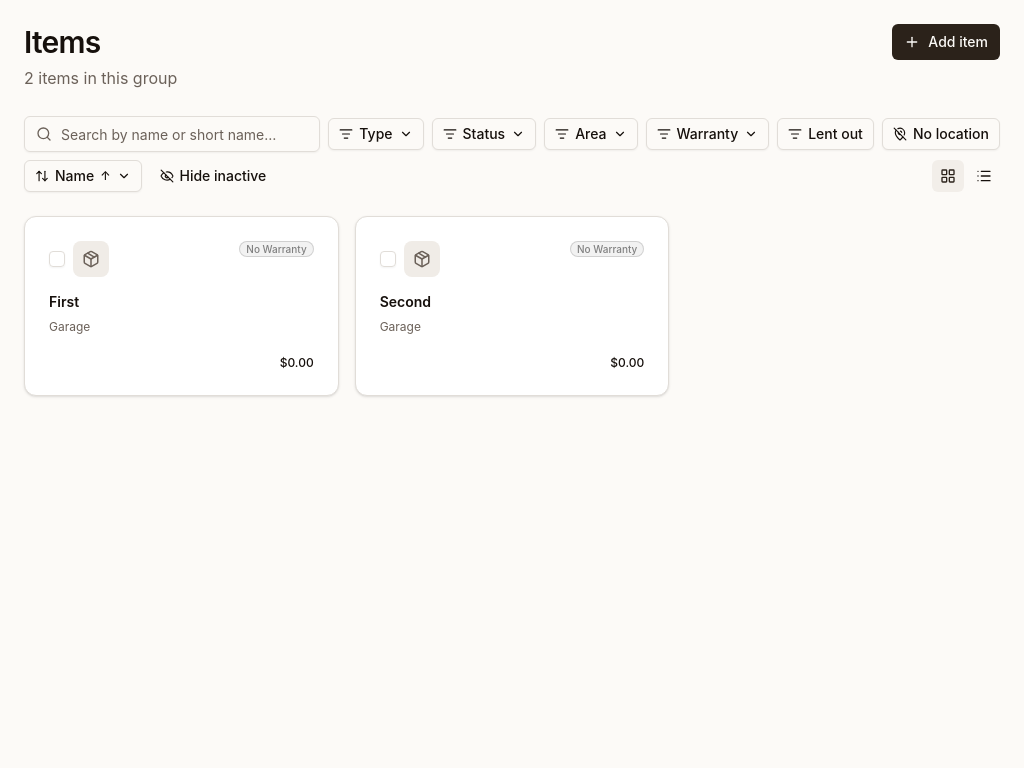
Test: <CommoditiesListPage /> › opens the bulk action bar when at least one row is selected
Click the checkbox with test id "commodity-select" at (57, 259), box [49,251,65,267]
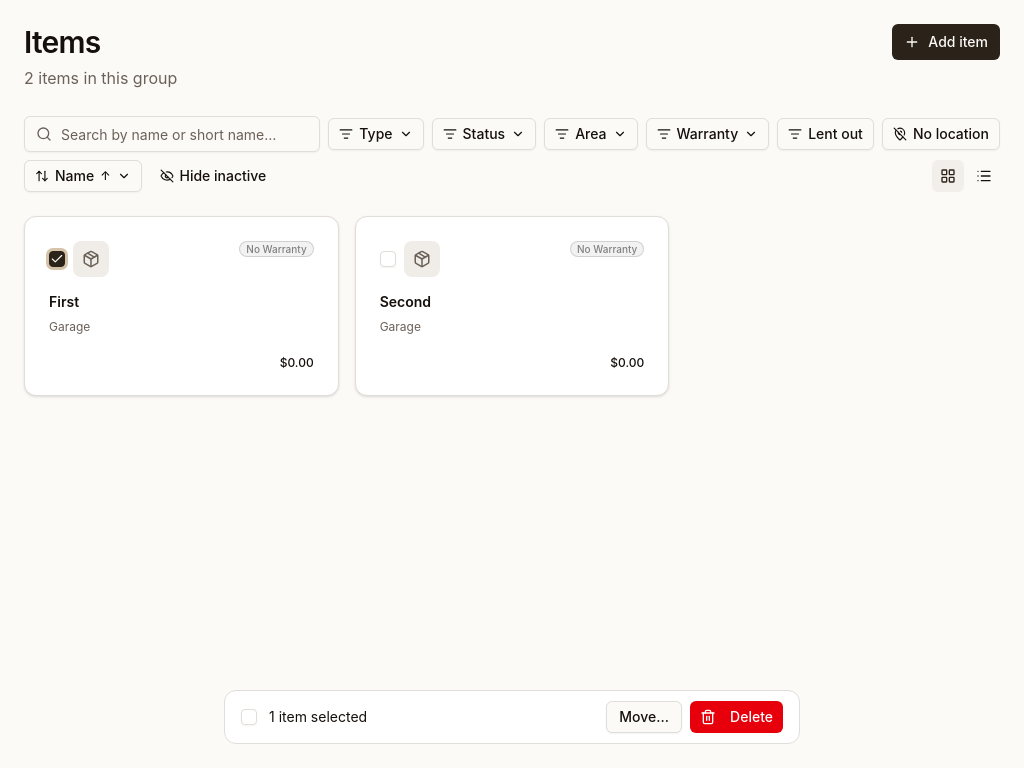
expect the element with test id "commodities-bulk-bar" is shown: met, box [224,690,800,744]
expect the text "1 item selected" is shown: met, box [269,707,367,727]
